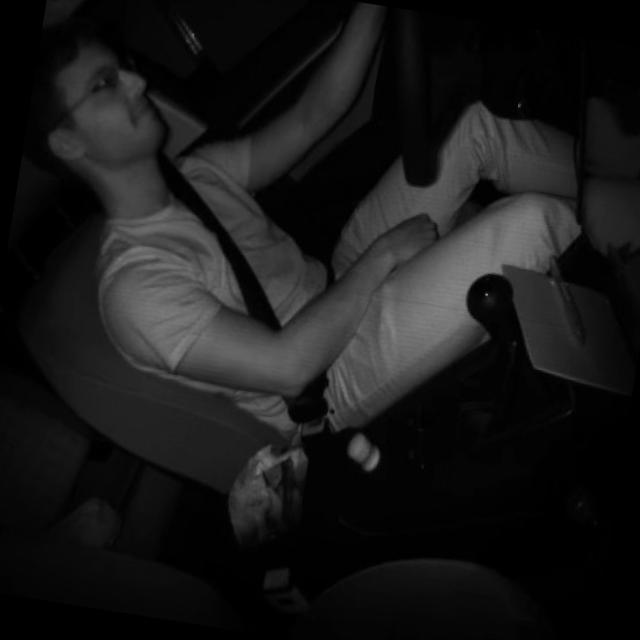pen: (534, 244, 604, 353)
